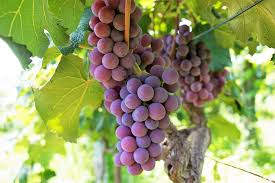Red Grapes: (95, 3, 176, 178), (167, 21, 230, 107)
